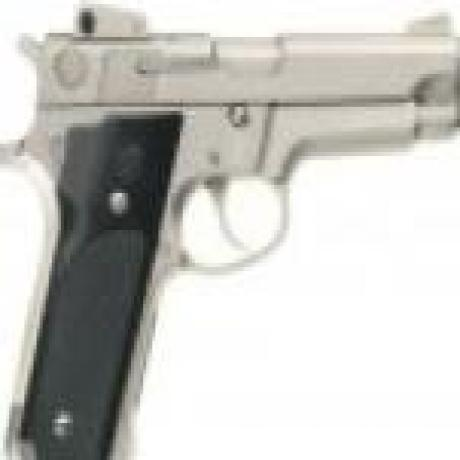weapon: (4, 11, 453, 447)
